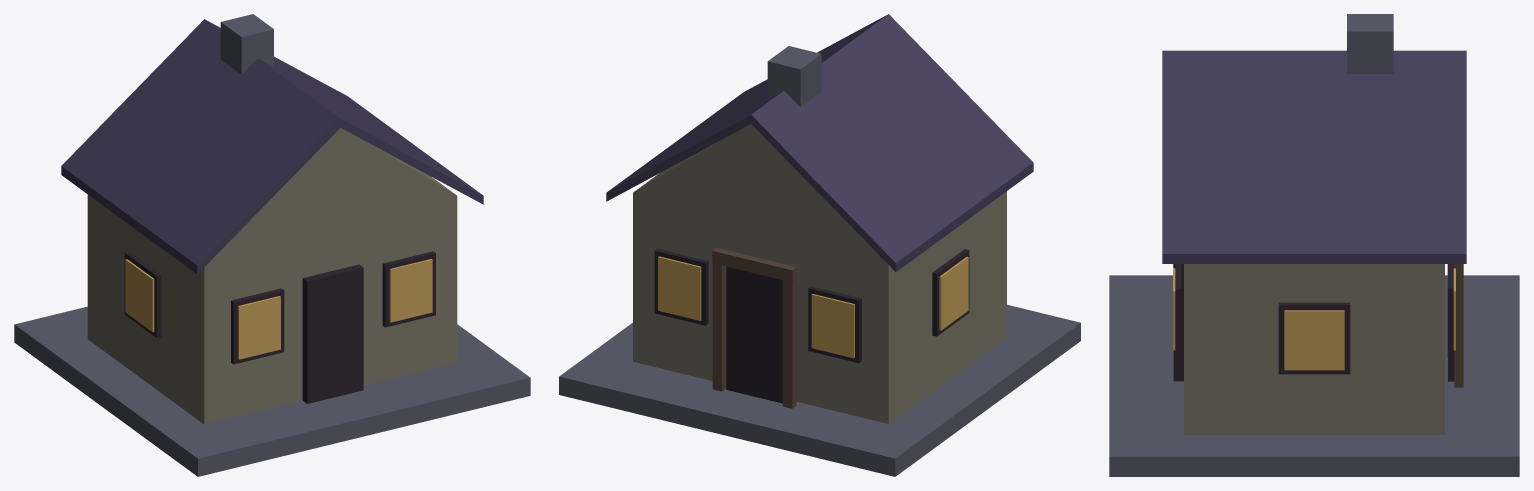
File: HauntedWoods_CrookedCottage_Simple.glb
3 renders of one model, left to right at view 1: azimuth 30°, elevation 25°; view 2: azimuth 150°, elevation 25°; view 3: azimuth 270°, elevation 25°, orthographic. The views are drawn at different scales.
Visible parts, largest first — view 1: HauntedWoods_CrookedCottage_Simple; view 2: HauntedWoods_CrookedCottage_Simple; view 3: HauntedWoods_CrookedCottage_Simple.
Part boxes in pixels (<box>): HauntedWoods_CrookedCottage_Simple: <box>14,14,530,476</box>; HauntedWoods_CrookedCottage_Simple: <box>559,14,1080,476</box>; HauntedWoods_CrookedCottage_Simple: <box>1109,14,1519,476</box>.
Bounding box in the file's own units: 4.6 × 4.3 × 4.4.
